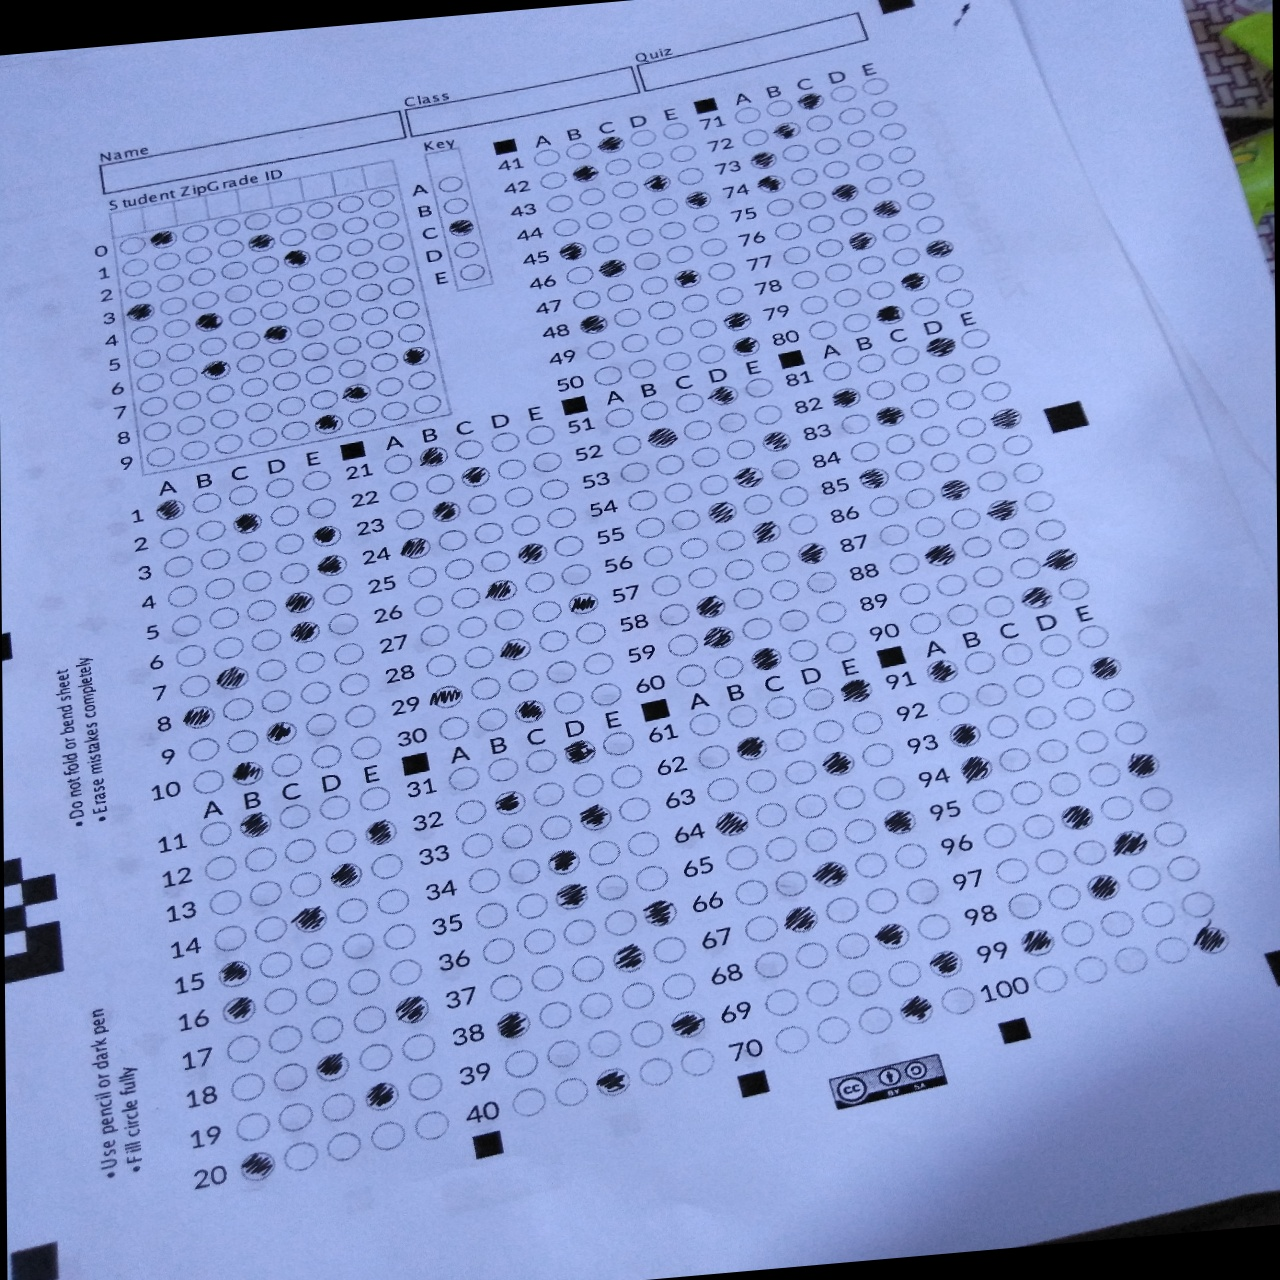not-c: (1179, 885, 1223, 921), (1137, 897, 1180, 933), (1065, 952, 1110, 987), (1160, 850, 1204, 885), (760, 983, 803, 1019), (1058, 915, 1102, 951), (1148, 933, 1191, 968), (1109, 942, 1152, 978), (765, 1022, 809, 1057), (840, 965, 883, 1000), (884, 954, 926, 989), (1092, 907, 1135, 942), (402, 1069, 445, 1103), (799, 975, 843, 1009), (810, 1014, 853, 1048), (530, 779, 572, 813), (510, 890, 552, 924), (504, 855, 546, 888), (484, 971, 526, 1005), (348, 1002, 390, 1036), (336, 930, 379, 964), (678, 1044, 720, 1078), (634, 1053, 676, 1087), (300, 976, 342, 1010), (224, 1032, 266, 1065), (937, 985, 979, 1019), (748, 949, 790, 983), (1005, 888, 1047, 922), (1027, 964, 1069, 998), (1124, 862, 1166, 896), (850, 847, 892, 881), (839, 815, 881, 849), (1073, 619, 1115, 653), (855, 1005, 896, 1039), (380, 919, 421, 953), (520, 924, 561, 958), (509, 1084, 550, 1118), (272, 1058, 313, 1092), (383, 956, 424, 990), (256, 948, 297, 982), (758, 831, 799, 865), (790, 788, 831, 822), (915, 908, 956, 942), (632, 862, 674, 894), (614, 794, 656, 826), (535, 811, 577, 844), (599, 905, 641, 938), (591, 870, 633, 903), (583, 836, 625, 869), (568, 952, 611, 985), (535, 998, 577, 1030), (543, 1037, 585, 1070), (281, 1141, 324, 1173), (324, 1130, 366, 1163), (399, 1032, 441, 1064), (584, 1027, 626, 1060), (627, 1017, 669, 1050), (822, 892, 864, 925), (860, 884, 903, 917), (903, 874, 945, 907), (1068, 838, 1111, 870), (478, 935, 519, 968), (625, 826, 666, 859), (559, 915, 600, 948), (576, 989, 617, 1022), (526, 964, 567, 996), (501, 1046, 542, 1078), (308, 1013, 349, 1046), (411, 1109, 452, 1142), (231, 1110, 272, 1143), (275, 1101, 316, 1133), (367, 1121, 408, 1153), (343, 967, 384, 1000), (652, 934, 693, 967), (661, 971, 702, 1003), (617, 979, 658, 1012), (260, 985, 301, 1017), (833, 928, 874, 961), (263, 1022, 305, 1054), (318, 1092, 360, 1124), (350, 1041, 393, 1073), (1097, 791, 1139, 823), (730, 877, 772, 908), (1136, 784, 1178, 816), (1041, 768, 1083, 799), (1007, 778, 1049, 810), (973, 819, 1015, 851), (967, 787, 1009, 818), (990, 856, 1033, 887), (768, 869, 810, 900), (749, 949, 791, 981), (550, 1076, 591, 1108), (227, 1069, 268, 1101), (295, 940, 336, 972), (750, 798, 791, 830), (799, 823, 840, 855), (830, 779, 871, 811), (890, 839, 931, 871), (869, 771, 910, 803), (719, 843, 760, 874), (1044, 881, 1085, 913), (1032, 845, 1073, 877), (790, 939, 831, 971), (738, 912, 781, 942), (1151, 818, 1193, 849), (1015, 810, 1057, 840), (275, 801, 316, 831), (483, 754, 524, 784), (1085, 757, 1126, 788), (850, 707, 888, 738), (1034, 731, 1073, 763), (1020, 700, 1058, 731), (815, 597, 853, 628), (896, 576, 934, 607), (369, 851, 409, 881), (474, 899, 513, 930), (452, 796, 492, 826), (445, 764, 486, 794), (602, 730, 644, 760), (1060, 693, 1098, 723), (740, 765, 778, 796), (802, 568, 840, 599), (738, 613, 777, 644), (772, 606, 811, 636), (966, 561, 1005, 592), (784, 509, 823, 539), (765, 452, 804, 483), (212, 924, 252, 953), (240, 844, 280, 873), (499, 821, 539, 850), (467, 865, 506, 894), (801, 685, 838, 715), (859, 740, 897, 770), (1009, 668, 1047, 699), (1000, 638, 1037, 668), (1037, 629, 1075, 660), (1112, 716, 1150, 747), (695, 741, 733, 771), (704, 774, 742, 804), (723, 701, 761, 731), (685, 563, 722, 593), (686, 565, 723, 595), (824, 626, 862, 656), (661, 631, 699, 661), (1056, 572, 1094, 602), (933, 568, 971, 599), (980, 591, 1017, 621), (907, 610, 945, 640), (680, 653, 717, 683), (777, 482, 815, 512), (1020, 486, 1057, 517), (247, 878, 286, 907), (607, 762, 646, 791), (530, 779, 568, 809), (779, 758, 818, 788), (973, 680, 1012, 709), (1073, 726, 1111, 755), (685, 709, 723, 738), (652, 600, 690, 629), (945, 600, 983, 629), (332, 897, 372, 925), (205, 888, 245, 917), (281, 835, 321, 863), (763, 694, 801, 723), (810, 717, 847, 747), (983, 712, 1021, 741), (961, 648, 999, 678), (1099, 685, 1137, 714), (647, 570, 685, 599), (1005, 554, 1042, 584), (713, 649, 750, 679), (788, 636, 825, 666), (666, 505, 703, 535), (651, 450, 688, 479), (285, 871, 324, 899), (376, 886, 415, 914), (203, 853, 241, 881), (321, 826, 360, 855), (524, 747, 563, 775), (459, 833, 498, 862), (253, 915, 293, 942), (568, 772, 608, 799), (1050, 662, 1087, 692), (772, 726, 809, 755), (937, 689, 973, 719), (996, 745, 1033, 775), (659, 477, 695, 506), (712, 525, 748, 554), (723, 435, 760, 464), (551, 532, 588, 560), (441, 554, 478, 583), (542, 658, 579, 686), (461, 644, 498, 672), (358, 784, 395, 812), (719, 554, 756, 583), (694, 469, 731, 497), (686, 444, 723, 472), (737, 490, 775, 518), (765, 577, 803, 605), (169, 644, 207, 670), (1032, 516, 1067, 545), (472, 519, 509, 547), (506, 667, 543, 695), (199, 819, 236, 847), (222, 694, 258, 722), (1009, 459, 1046, 488), (327, 610, 365, 636), (558, 560, 595, 587), (543, 503, 580, 530), (538, 477, 576, 504), (508, 511, 545, 538), (476, 549, 513, 576), (501, 483, 538, 510), (447, 585, 484, 612), (550, 688, 587, 715), (468, 674, 505, 701), (454, 614, 491, 641), (304, 712, 341, 738), (291, 648, 328, 675), (343, 702, 381, 729), (590, 680, 627, 707), (268, 751, 306, 778), (258, 688, 295, 715), (223, 727, 260, 754), (211, 634, 248, 661), (191, 769, 229, 796), (177, 673, 215, 700), (639, 542, 676, 568), (730, 584, 765, 612), (758, 547, 794, 576), (464, 491, 501, 518), (520, 568, 557, 595), (322, 581, 359, 608), (435, 715, 471, 742), (425, 651, 462, 678), (417, 621, 454, 648), (580, 649, 617, 676), (573, 619, 610, 646), (472, 704, 509, 731), (527, 599, 564, 626), (493, 606, 530, 633), (535, 627, 571, 654), (309, 743, 346, 770), (297, 678, 333, 704), (347, 735, 383, 762), (338, 670, 374, 697), (331, 641, 367, 668), (316, 794, 353, 821), (253, 658, 290, 685), (248, 626, 285, 653), (185, 735, 222, 762), (878, 520, 912, 549), (608, 433, 642, 459), (888, 549, 922, 576), (840, 409, 874, 436), (618, 459, 652, 486), (955, 413, 989, 440), (903, 484, 937, 511), (912, 513, 946, 540), (716, 408, 750, 435), (900, 368, 934, 395), (888, 341, 922, 368), (638, 399, 672, 425), (604, 404, 638, 431), (883, 433, 918, 458), (928, 449, 964, 475), (942, 386, 978, 411), (678, 535, 710, 561), (634, 515, 667, 542), (627, 486, 660, 513), (965, 440, 998, 467), (961, 533, 994, 560), (934, 360, 967, 387), (822, 358, 855, 384), (381, 449, 415, 475), (495, 457, 529, 483), (424, 471, 458, 497), (489, 430, 523, 456), (452, 437, 486, 463), (411, 593, 445, 619), (386, 478, 420, 504), (918, 422, 952, 448), (894, 456, 928, 482), (869, 493, 903, 519), (847, 440, 881, 465), (1001, 433, 1035, 458), (975, 469, 1009, 495), (949, 504, 983, 530), (998, 523, 1032, 549), (969, 352, 1003, 377), (956, 325, 990, 350), (856, 350, 890, 376), (743, 375, 777, 401), (864, 376, 898, 402), (679, 417, 713, 443), (525, 422, 560, 447), (166, 583, 199, 608), (981, 377, 1014, 403), (751, 402, 784, 428), (906, 396, 939, 422), (672, 392, 704, 417), (531, 450, 565, 475), (438, 527, 472, 552), (395, 506, 429, 531), (404, 564, 438, 588), (300, 467, 332, 492), (264, 476, 297, 501), (207, 605, 240, 629), (162, 554, 195, 579), (247, 598, 279, 622), (203, 576, 234, 600), (159, 525, 191, 550), (307, 496, 339, 520), (279, 561, 311, 586), (298, 339, 331, 362), (121, 278, 154, 301), (195, 519, 227, 543), (115, 234, 147, 258), (304, 198, 335, 222), (379, 400, 410, 423), (331, 334, 362, 358), (318, 264, 349, 287), (350, 258, 382, 281), (343, 237, 375, 260), (258, 299, 290, 322), (121, 256, 152, 279), (268, 504, 300, 527), (241, 568, 273, 592), (170, 614, 202, 638), (659, 120, 690, 143), (617, 331, 648, 354), (611, 177, 642, 200), (604, 156, 635, 179), (663, 243, 695, 266), (789, 268, 821, 292), (806, 316, 838, 340), (904, 190, 935, 213), (273, 531, 305, 554), (175, 414, 207, 436), (542, 192, 574, 215), (788, 165, 821, 188), (209, 407, 239, 430), (179, 222, 210, 245), (211, 217, 241, 240), (272, 204, 302, 227), (373, 207, 403, 231), (375, 374, 406, 397), (411, 393, 442, 416), (285, 271, 315, 294), (327, 311, 358, 334), (253, 277, 284, 300), (155, 273, 185, 297), (138, 395, 169, 418), (132, 348, 163, 372), (217, 238, 247, 261), (183, 245, 213, 268), (275, 394, 306, 417), (229, 484, 259, 508), (191, 491, 222, 515), (710, 148, 741, 171), (634, 147, 665, 170), (626, 127, 656, 150), (675, 164, 706, 188), (613, 305, 644, 328), (617, 203, 647, 226), (658, 218, 688, 241), (651, 195, 681, 218), (765, 196, 796, 219), (594, 365, 625, 388), (538, 168, 568, 191), (842, 311, 872, 334), (798, 293, 829, 316), (811, 134, 842, 157), (891, 245, 921, 268), (853, 150, 884, 173), (845, 127, 876, 150), (887, 143, 918, 166), (832, 285, 863, 308), (806, 211, 837, 234), (778, 142, 809, 165), (866, 278, 897, 301), (241, 212, 273, 234), (366, 188, 397, 210), (305, 362, 336, 384), (277, 226, 308, 248), (338, 358, 369, 380), (353, 281, 384, 304), (340, 215, 372, 237), (392, 298, 423, 320), (386, 275, 417, 298), (250, 254, 281, 277), (346, 406, 377, 428), (141, 420, 172, 442), (134, 372, 165, 394), (189, 290, 220, 312), (168, 365, 199, 387), (234, 540, 266, 563), (200, 547, 232, 570), (714, 285, 745, 307), (707, 260, 738, 282), (583, 210, 614, 232), (563, 141, 594, 163), (645, 299, 676, 321), (631, 250, 662, 272), (624, 227, 655, 250), (687, 315, 719, 338), (679, 292, 710, 314), (781, 245, 812, 267), (570, 288, 601, 311), (564, 264, 595, 286), (551, 217, 583, 239), (862, 173, 893, 196), (829, 84, 860, 107), (877, 120, 908, 142), (815, 236, 846, 258), (856, 253, 887, 275), (309, 219, 341, 241), (309, 387, 339, 410), (376, 230, 406, 253), (172, 388, 202, 411), (229, 305, 258, 328), (213, 431, 243, 455), (819, 157, 849, 181), (798, 188, 828, 211), (336, 195, 367, 217), (457, 261, 488, 284), (440, 195, 470, 217), (436, 172, 467, 195), (297, 316, 327, 339), (292, 294, 322, 316), (324, 287, 354, 309), (313, 243, 343, 265), (406, 369, 436, 392), (368, 352, 399, 374), (365, 328, 395, 350), (358, 304, 388, 326), (396, 321, 427, 343), (159, 316, 190, 339), (152, 248, 183, 271), (147, 445, 177, 468), (129, 325, 159, 347), (204, 383, 234, 406), (198, 335, 229, 358), (218, 260, 248, 282), (186, 266, 217, 288), (164, 341, 195, 363), (246, 425, 277, 448), (243, 401, 273, 423), (280, 418, 311, 441), (271, 370, 301, 393), (234, 353, 265, 375), (231, 331, 261, 353), (531, 147, 561, 169), (699, 236, 729, 258), (689, 212, 720, 234), (667, 141, 697, 163), (606, 281, 636, 304), (594, 233, 625, 256), (661, 349, 692, 372), (654, 325, 685, 347), (639, 275, 669, 298), (696, 342, 727, 365), (772, 220, 803, 243), (742, 125, 772, 148), (731, 104, 762, 127), (586, 340, 617, 362), (942, 287, 973, 309), (839, 204, 870, 226), (805, 113, 836, 135), (881, 222, 912, 244), (835, 104, 865, 127), (934, 261, 965, 284), (914, 213, 945, 236), (869, 97, 899, 120), (823, 260, 853, 282), (764, 98, 795, 121), (380, 254, 411, 275), (860, 77, 892, 98), (451, 240, 481, 263), (159, 295, 189, 318), (268, 346, 298, 368), (222, 282, 251, 305), (628, 358, 658, 380), (896, 166, 925, 189), (178, 440, 209, 461), (576, 188, 606, 209), (906, 295, 937, 316), (240, 377, 271, 399)
taken-c: (309, 1049, 352, 1084), (1056, 799, 1098, 835), (1124, 749, 1167, 783), (362, 1080, 404, 1114), (1192, 922, 1234, 956), (880, 805, 922, 839), (1109, 826, 1151, 860), (941, 719, 983, 753), (954, 751, 996, 785), (919, 655, 961, 689), (839, 674, 881, 708), (818, 745, 860, 779), (239, 1149, 280, 1183), (896, 993, 937, 1027), (874, 919, 915, 953), (1087, 651, 1128, 685), (810, 858, 852, 891), (1083, 872, 1125, 905), (1015, 926, 1057, 959), (593, 1065, 634, 1098), (781, 904, 822, 937), (291, 904, 332, 937), (927, 947, 968, 980), (1016, 583, 1057, 615), (667, 1010, 709, 1042), (639, 898, 681, 930), (553, 881, 595, 913), (393, 993, 435, 1024), (217, 993, 259, 1024), (326, 860, 368, 892), (362, 818, 406, 849), (610, 942, 651, 974), (215, 958, 256, 989), (492, 1009, 535, 1040), (577, 802, 617, 833), (1043, 544, 1081, 576), (871, 400, 908, 431), (921, 540, 961, 570), (546, 846, 583, 878), (985, 495, 1021, 525), (989, 403, 1027, 433), (794, 538, 830, 567), (938, 475, 974, 504), (497, 635, 535, 663), (428, 683, 465, 712), (714, 809, 750, 837), (563, 738, 599, 767), (179, 703, 216, 731), (230, 760, 267, 787), (264, 719, 301, 745), (237, 811, 274, 838), (513, 696, 549, 724), (749, 644, 785, 670), (735, 735, 771, 762), (491, 790, 527, 817), (856, 465, 892, 492), (924, 234, 958, 263), (216, 665, 251, 692), (924, 334, 959, 361), (897, 268, 932, 295), (872, 301, 907, 328), (516, 540, 550, 567), (284, 588, 318, 615), (701, 624, 735, 651), (567, 590, 601, 617), (428, 498, 463, 524), (693, 593, 728, 619), (829, 181, 864, 206), (829, 384, 862, 411), (417, 443, 451, 469), (288, 620, 322, 646), (309, 523, 343, 549), (486, 577, 520, 602), (399, 535, 433, 560), (706, 499, 740, 525), (731, 465, 767, 490), (745, 148, 781, 172), (316, 553, 350, 578), (231, 511, 265, 536), (154, 496, 188, 520), (750, 519, 784, 544), (869, 197, 903, 222), (753, 172, 788, 196), (771, 118, 804, 143), (846, 227, 878, 252), (313, 411, 346, 435), (459, 465, 492, 489), (646, 425, 679, 449), (761, 429, 794, 452), (731, 334, 764, 358), (722, 309, 755, 333), (673, 267, 706, 291), (797, 89, 828, 114), (578, 313, 610, 336), (557, 239, 588, 263), (570, 162, 601, 185), (401, 343, 433, 367), (706, 384, 738, 407), (342, 381, 373, 404), (195, 311, 225, 334), (443, 216, 474, 239), (598, 257, 629, 279), (282, 248, 314, 271), (683, 188, 713, 211), (147, 229, 177, 251), (640, 172, 670, 195), (595, 132, 626, 155), (261, 322, 292, 345), (125, 301, 156, 324), (245, 231, 275, 253), (200, 359, 230, 381)
